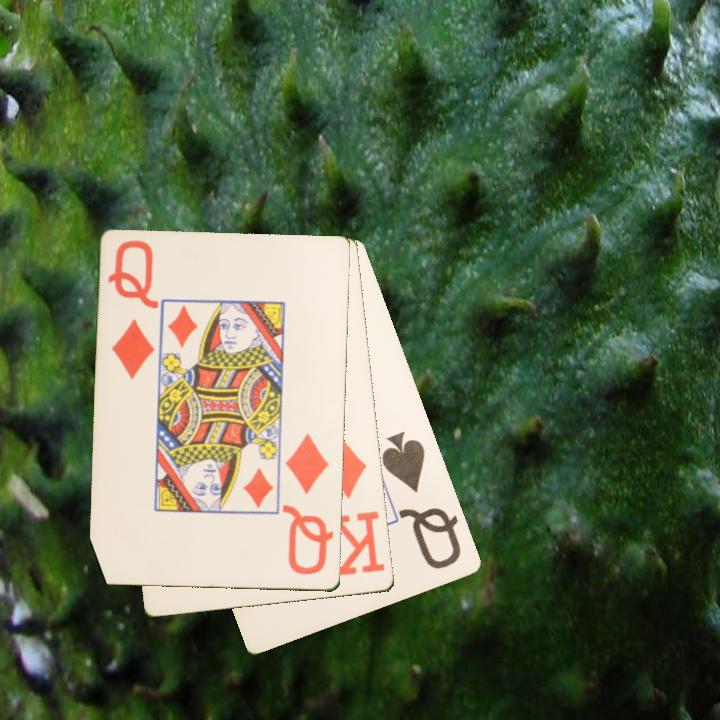Kd: (320, 435, 388, 580)
Qd: (280, 430, 336, 579), (105, 235, 159, 383)
Qs: (378, 427, 465, 573)
